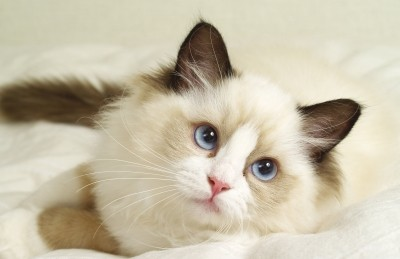cat: (62, 22, 393, 252)
